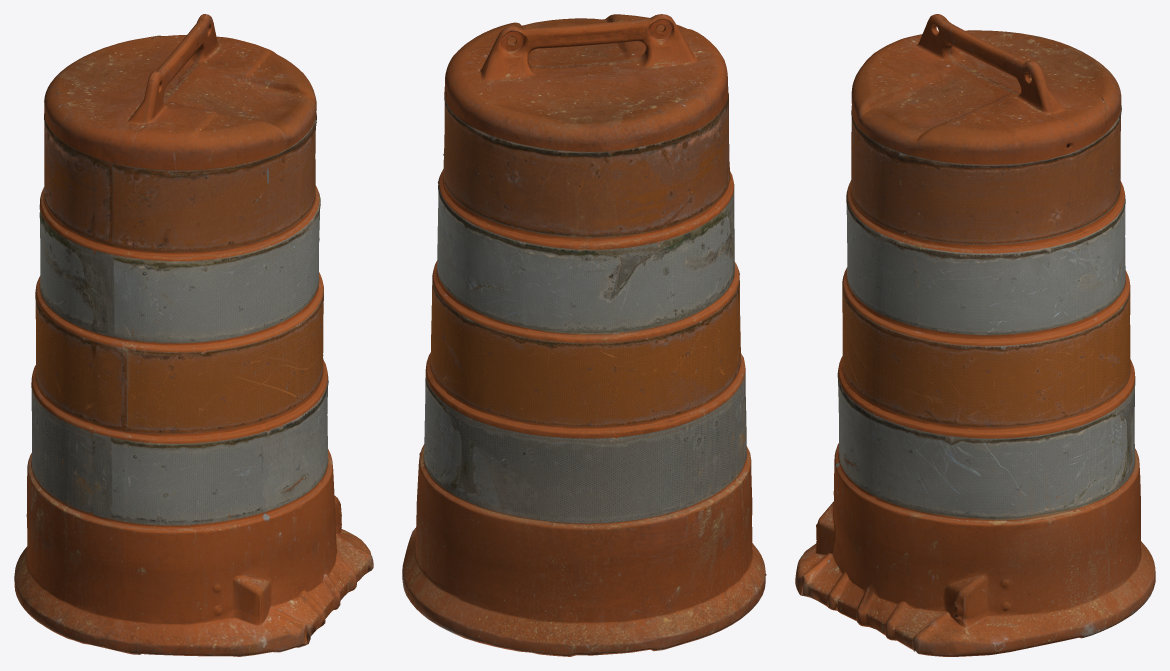
Rendered from barrel.glb.
The picture shows the model from 3 angles, left to right: view 1: azimuth 30°, elevation 25°; view 2: azimuth 150°, elevation 25°; view 3: azimuth 270°, elevation 25°; orthographic projection. The views are drawn at different scales.
Visible parts, largest first — view 1: Aset_street__M_viysfij_00_LOD0_2; view 2: Aset_street__M_viysfij_00_LOD0_2; view 3: Aset_street__M_viysfij_00_LOD0_2.
Part boxes in pixels (<box>): Aset_street__M_viysfij_00_LOD0_2: <box>14,14,373,656</box>; Aset_street__M_viysfij_00_LOD0_2: <box>402,14,766,656</box>; Aset_street__M_viysfij_00_LOD0_2: <box>795,14,1155,656</box>.
Size of the model in its own units: 0.6103 by 1.01 by 0.6096.
1 material, 1 textured.
